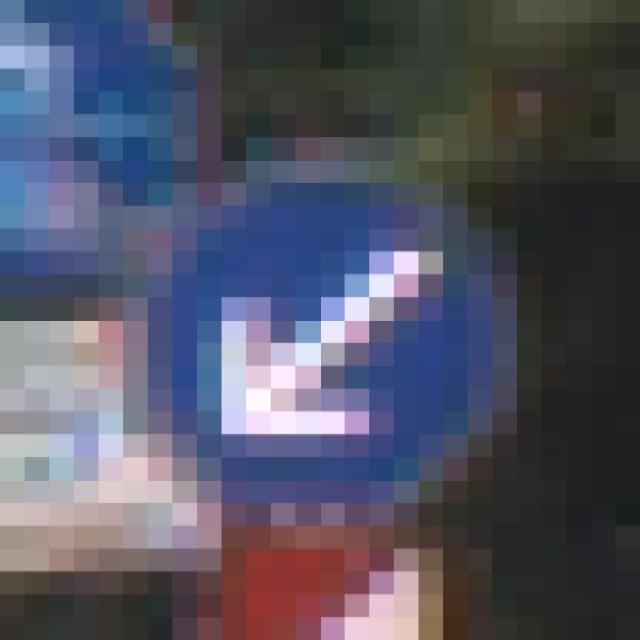Keep-Left: (123, 160, 542, 503)
